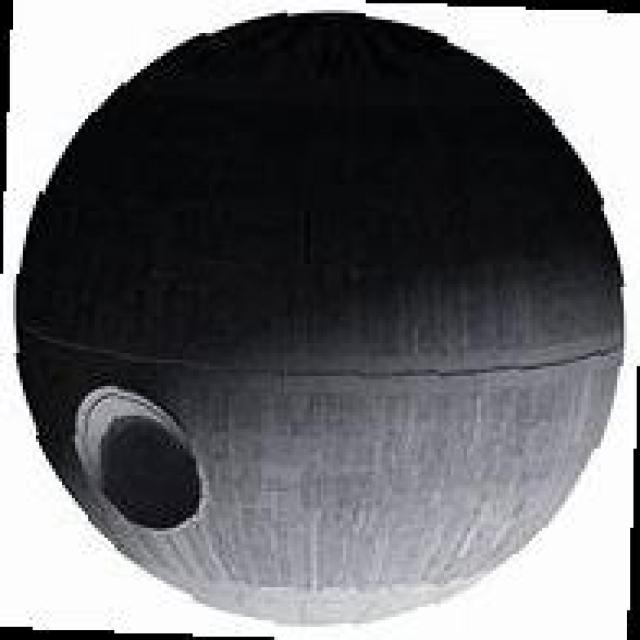Death Star: (23, 9, 618, 630)
